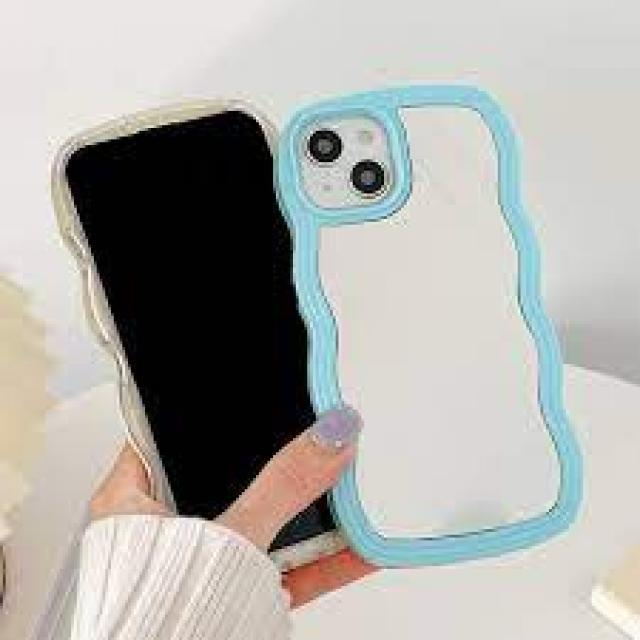Phone: (271, 81, 586, 570), (45, 89, 338, 552)
